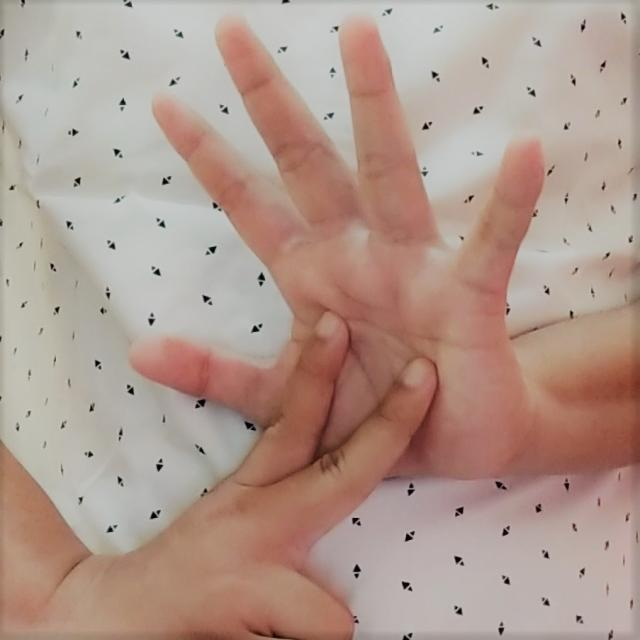N: (112, 13, 570, 571)
